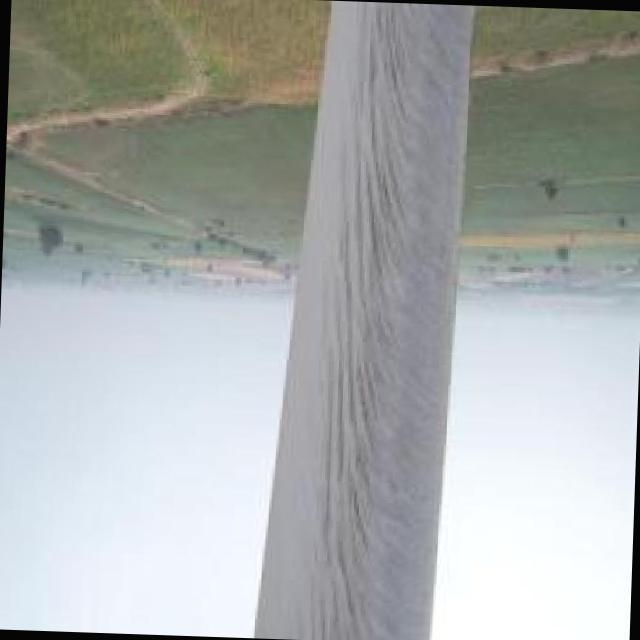Dirt: (302, 2, 473, 640)
